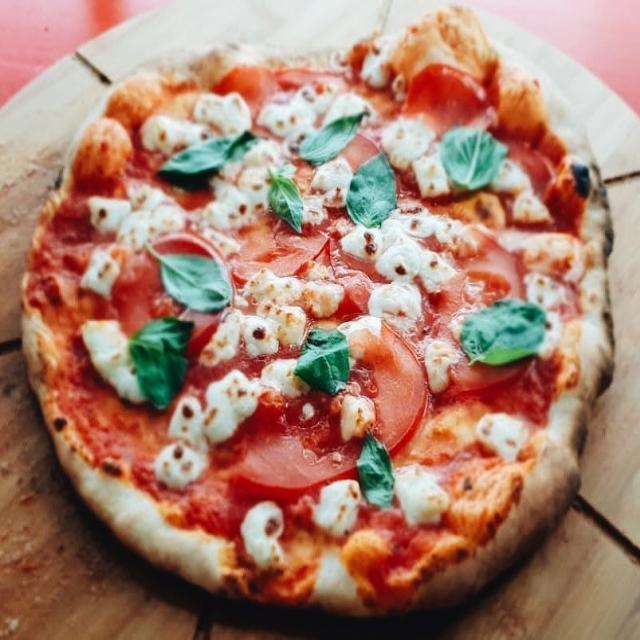basil: (457, 297, 551, 372), (130, 310, 196, 413), (144, 240, 232, 310), (153, 130, 254, 189), (438, 125, 510, 193), (295, 108, 370, 166), (344, 151, 400, 228), (295, 324, 352, 396), (355, 430, 397, 514), (269, 162, 304, 235)
pizza: (17, 0, 620, 622)
tomatoes: (328, 211, 538, 392), (242, 319, 434, 492), (88, 233, 242, 360), (395, 62, 496, 203), (227, 213, 342, 287)
